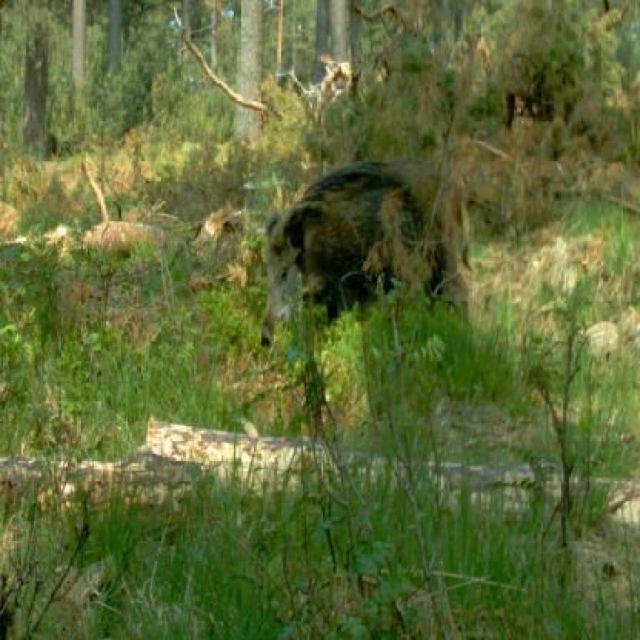Boar: (242, 140, 470, 371)
